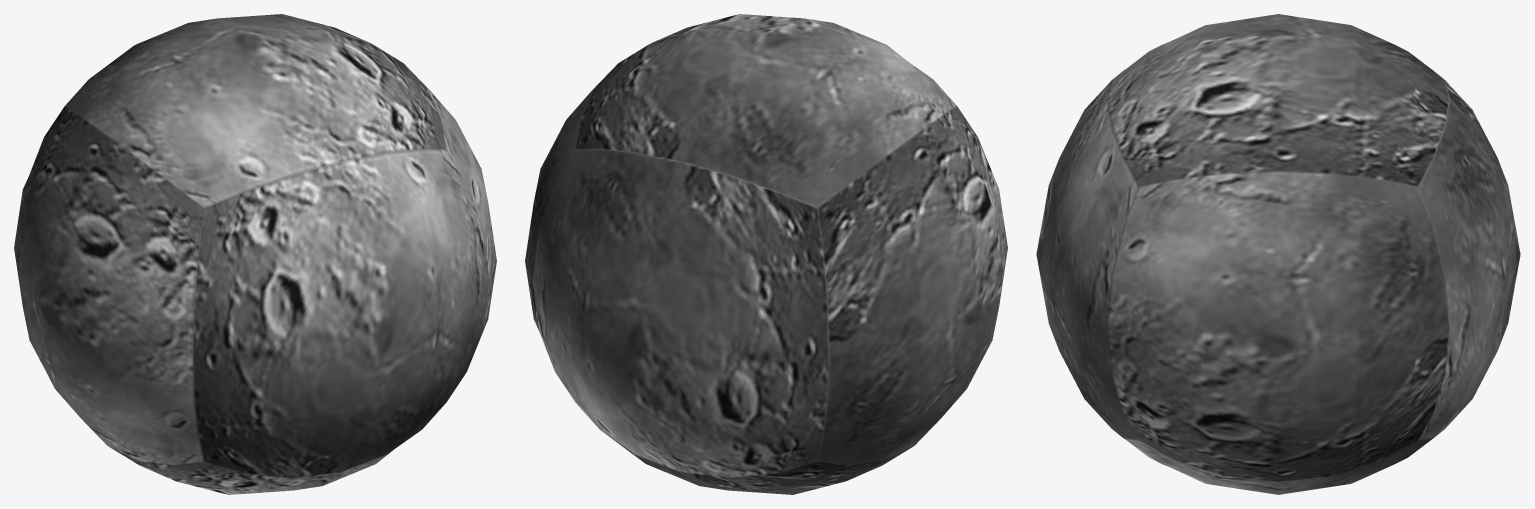
File: moon.glb
3 renders of one model, left to right at view 1: azimuth 30°, elevation 25°; view 2: azimuth 150°, elevation 25°; view 3: azimuth 270°, elevation 25°, orthographic.
Parts seen in each view (by area): view 1: moon; view 2: moon; view 3: moon.
Part boxes in pixels (x1,y1,x2,y2): moon: (14, 14, 496, 494); moon: (525, 14, 1007, 494); moon: (1036, 14, 1520, 494).
Bounding box in the file's own units: 100 × 100 × 100.
1 material, 1 textured.
